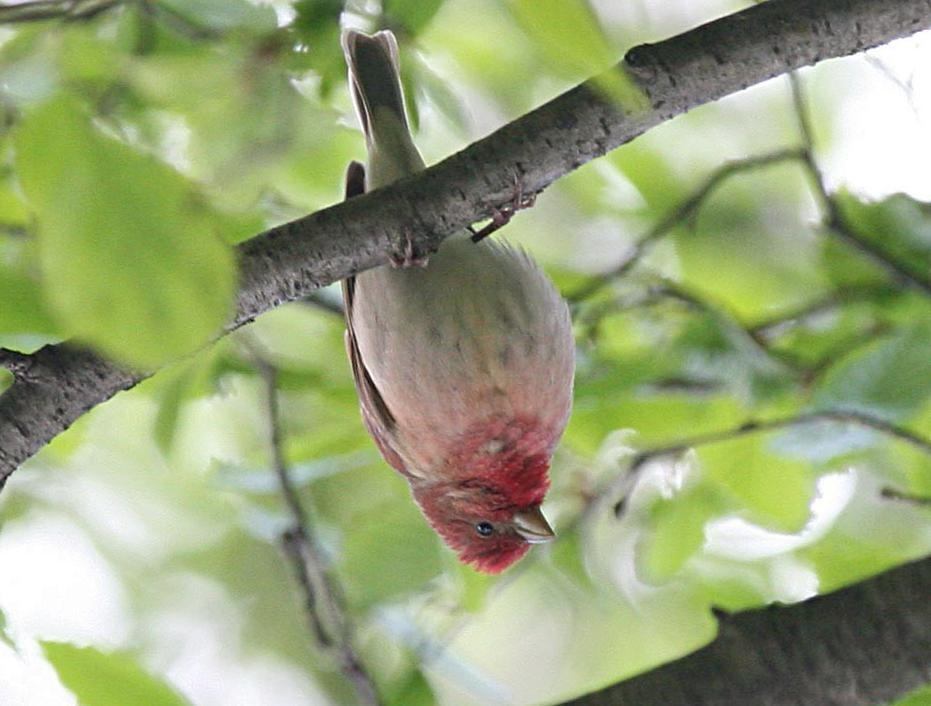rosefinch: (344, 132, 591, 591)
